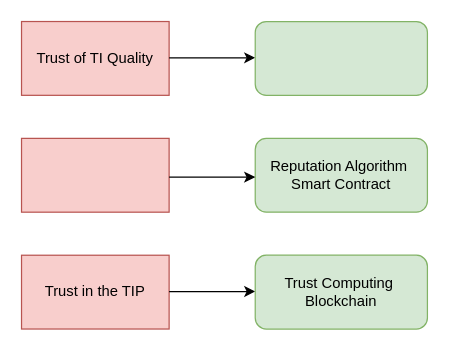
This 449x351 diagram has some shape labels left out. The centre of each missing label's shape, as x and y in pixels:
"Assessment Algorithm Smart Contract" belongs at (x=340, y=57).
"Trust between Participants" belongs at (x=94, y=174).
